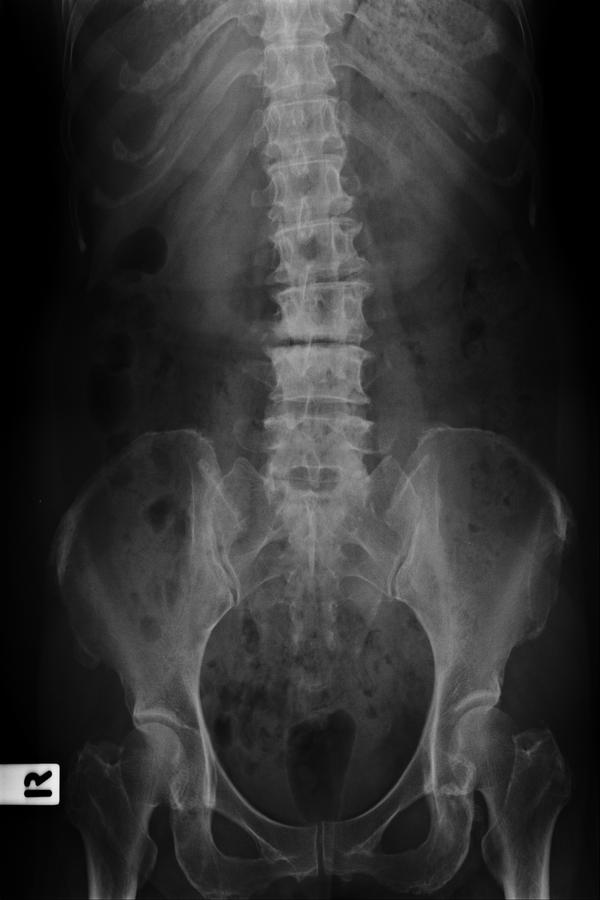lumbar scoliosis: (250, 110, 388, 524)
